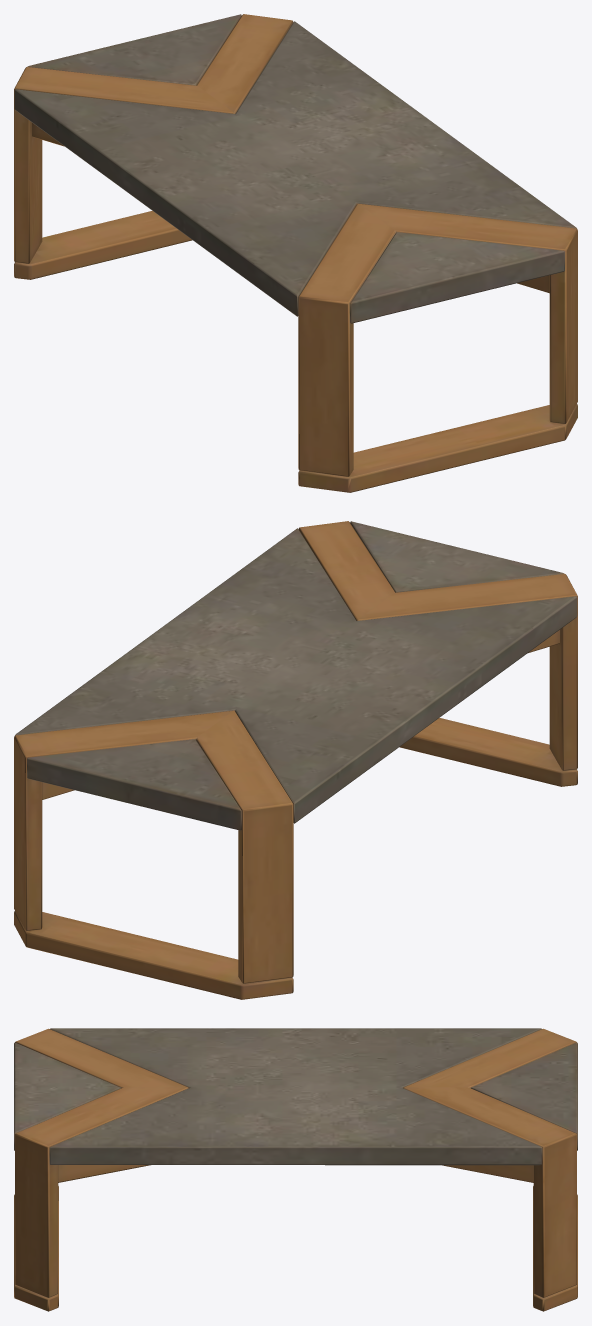
Rendered from modern_coffee_table_01.glb.
3 views of the same model, one above another, from view 1: azimuth 30°, elevation 25°; view 2: azimuth 150°, elevation 25°; view 3: azimuth 270°, elevation 25° (orthographic). The views are drawn at different scales.
Visible parts, largest first — view 1: modern_coffee_table_01; view 2: modern_coffee_table_01; view 3: modern_coffee_table_01.
Part boxes in pixels (x1=…): modern_coffee_table_01: x1=14, y1=14, x2=577, y2=492; modern_coffee_table_01: x1=14, y1=521, x2=577, y2=999; modern_coffee_table_01: x1=14, y1=1028, x2=577, y2=1311.
Bounding box in the file's own units: 0.6 × 0.39 × 1.2.
1 material, 1 textured.
